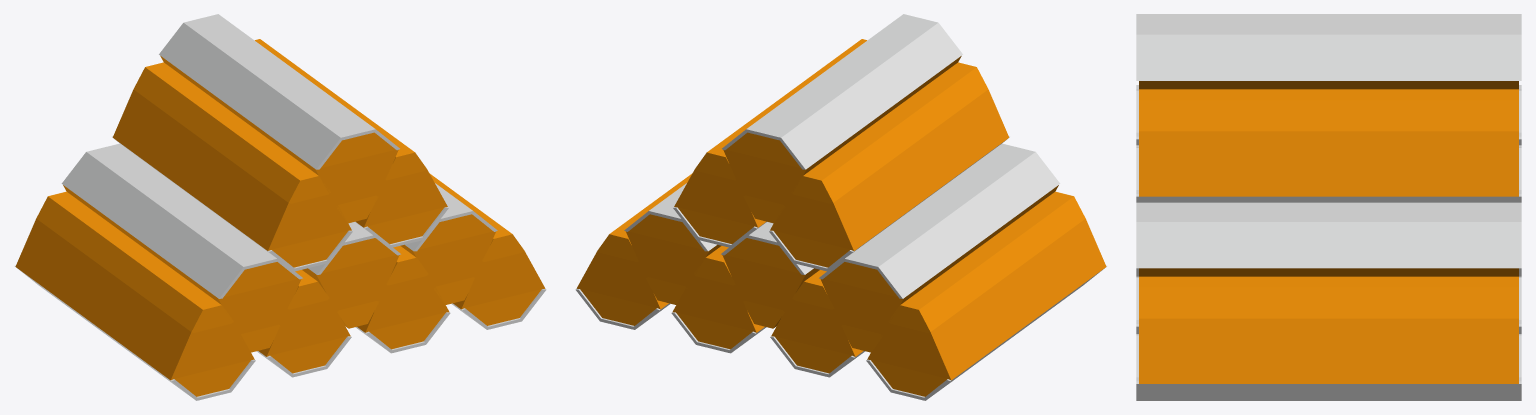
Rendered from Small Log_15.fbx.
The picture shows the model from 3 angles, left to right: view 1: azimuth 30°, elevation 25°; view 2: azimuth 150°, elevation 25°; view 3: azimuth 270°, elevation 25°; orthographic projection. The views are drawn at different scales.
Visible parts, largest first — view 1: Circle.274; view 2: Circle.274; view 3: Circle.274.
Boxes of the visible parts, box(x1,y1,x2,y2) form: Circle.274: box(14, 14, 546, 400); Circle.274: box(575, 14, 1107, 400); Circle.274: box(1136, 14, 1521, 400).
Size of the model in its own units: 32.68 by 18.99 by 23.76.
